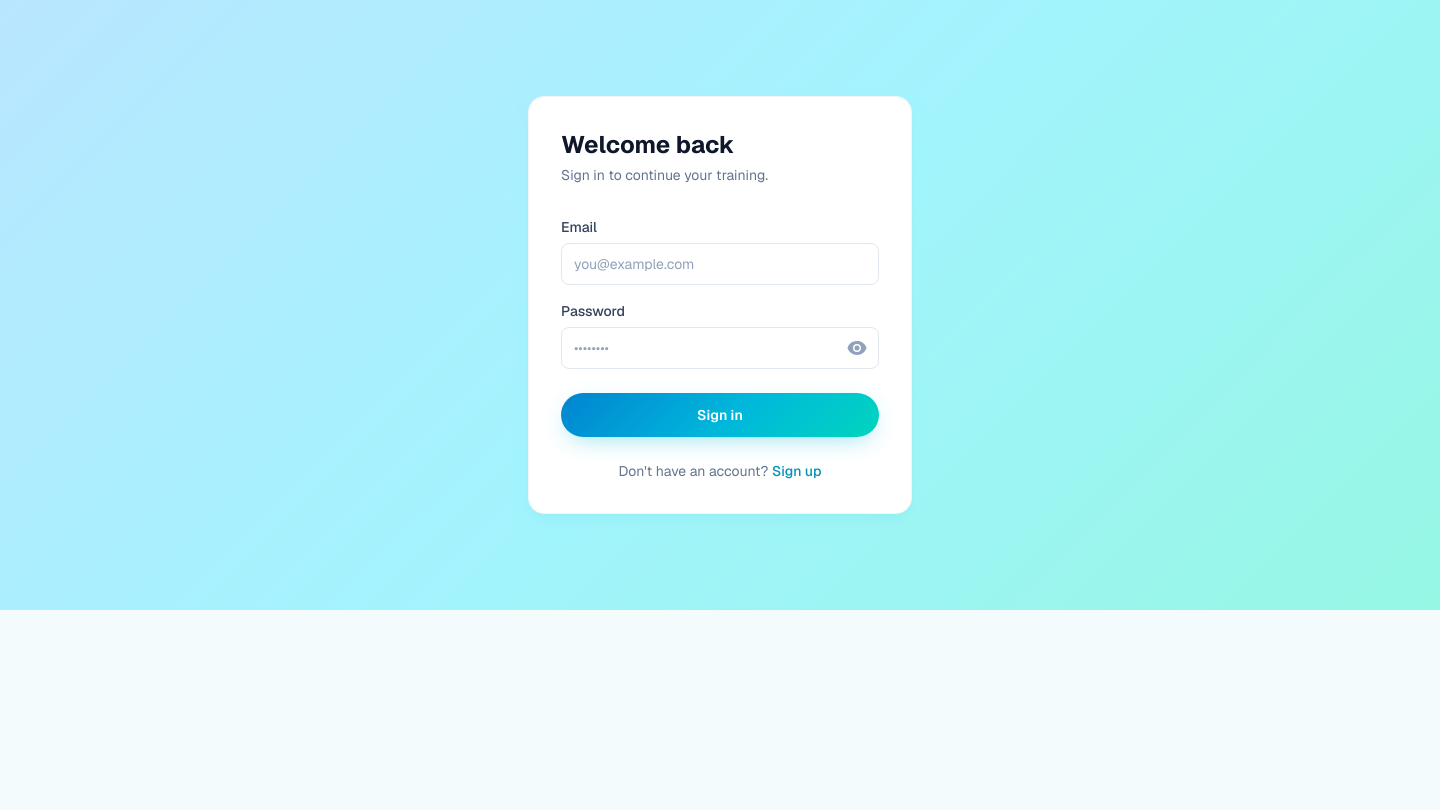
Scenario: SignInPage › shows field-specific errors when submission fails with them
The image size is (1440, 810).
Type "jane@example.com" into the field labelled "Email" at (720, 264), box x1=561 y1=243 x2=879 y2=285
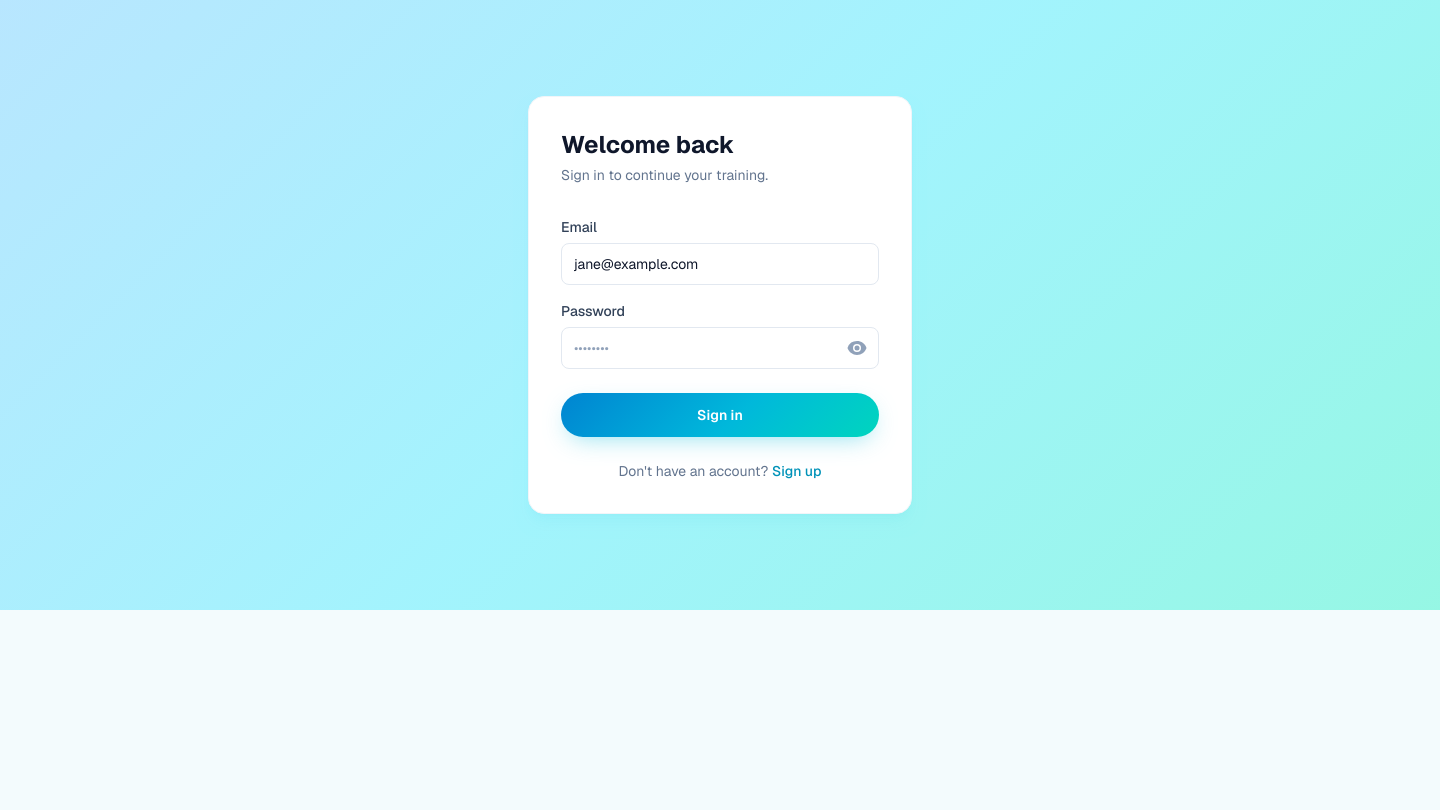
Type "hunter2222" into the password field labelled "Password" at (720, 348), box x1=561 y1=327 x2=879 y2=369
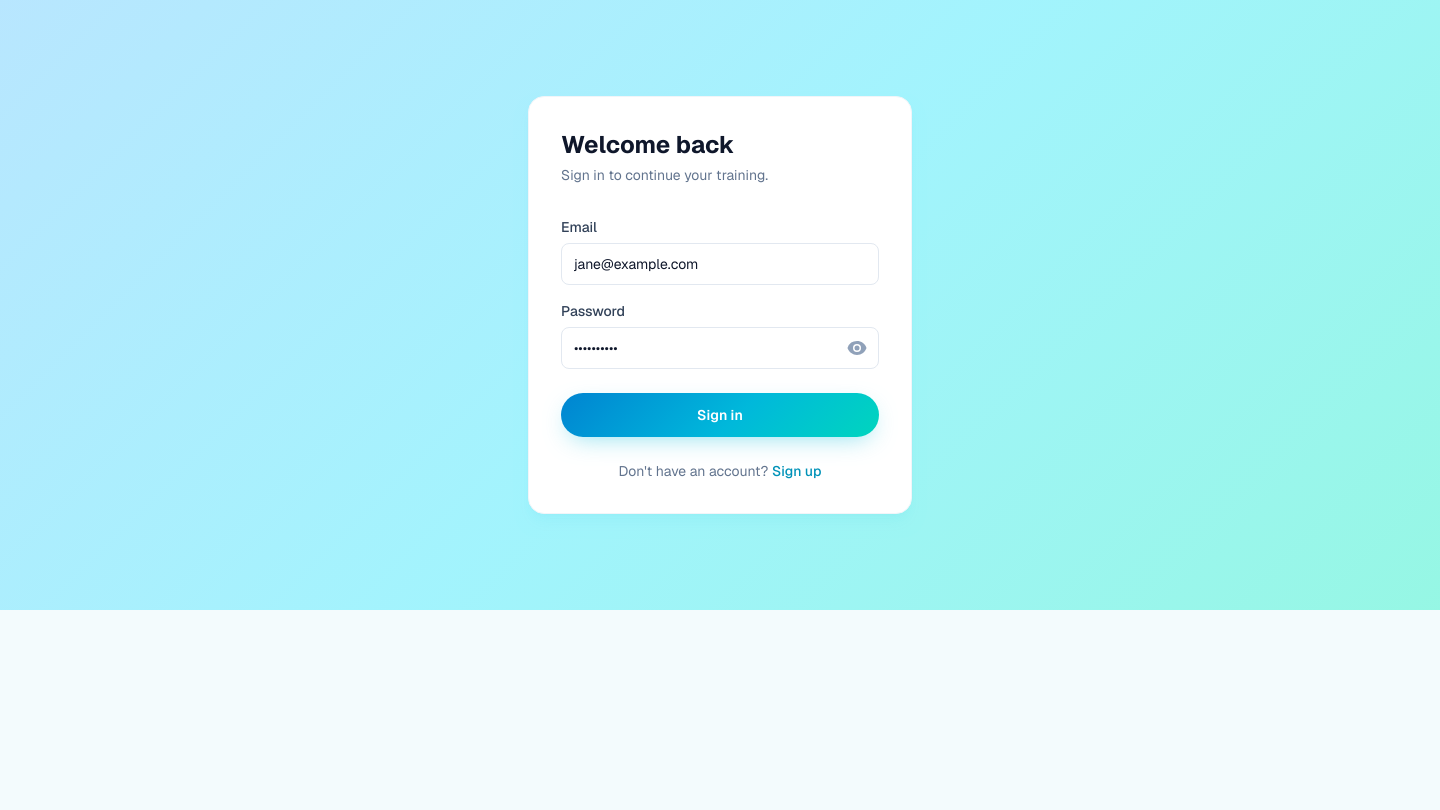
Click the button "Sign in" at (720, 415), box x1=561 y1=393 x2=879 y2=437
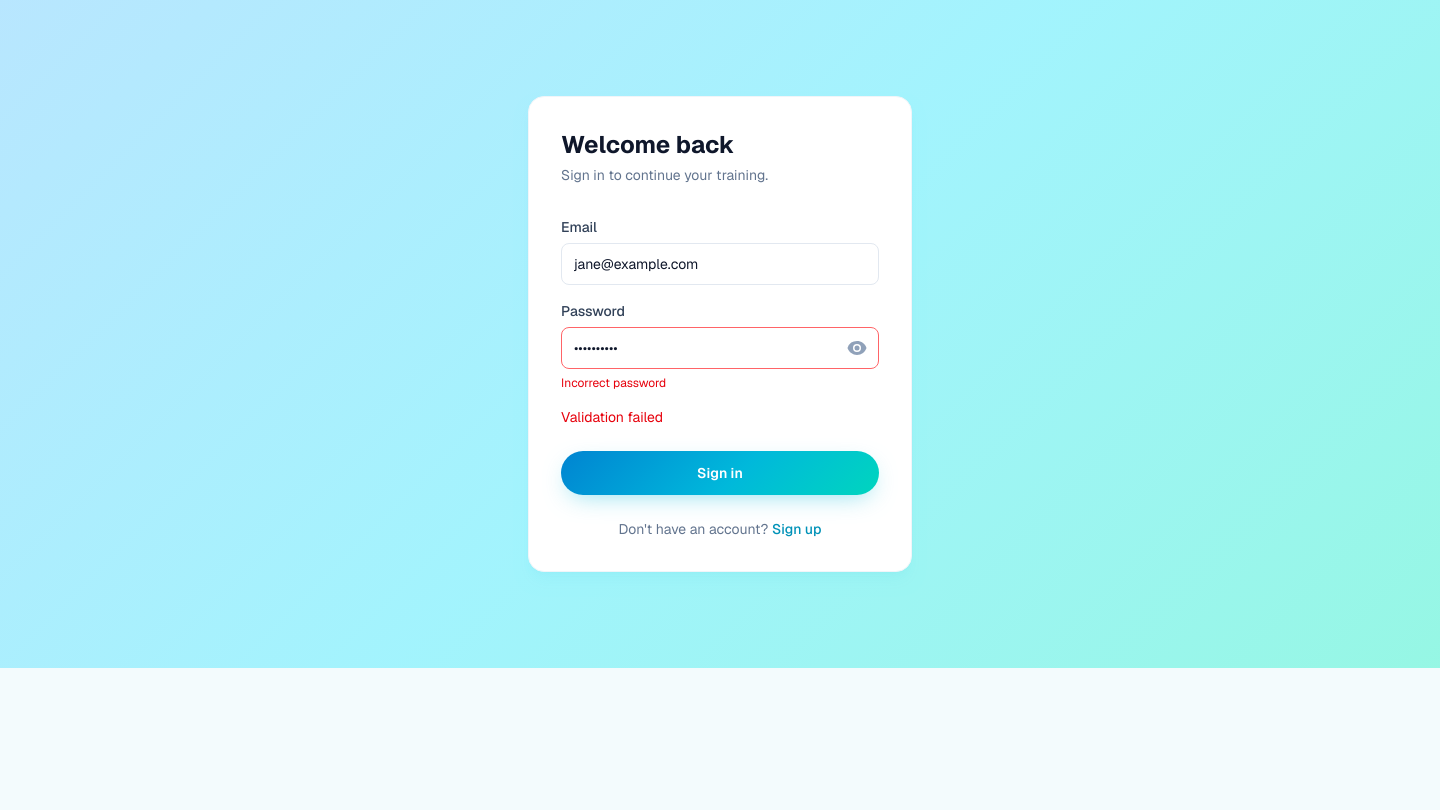
Now the text "Incorrect password" is shown, box x1=561 y1=375 x2=666 y2=391
